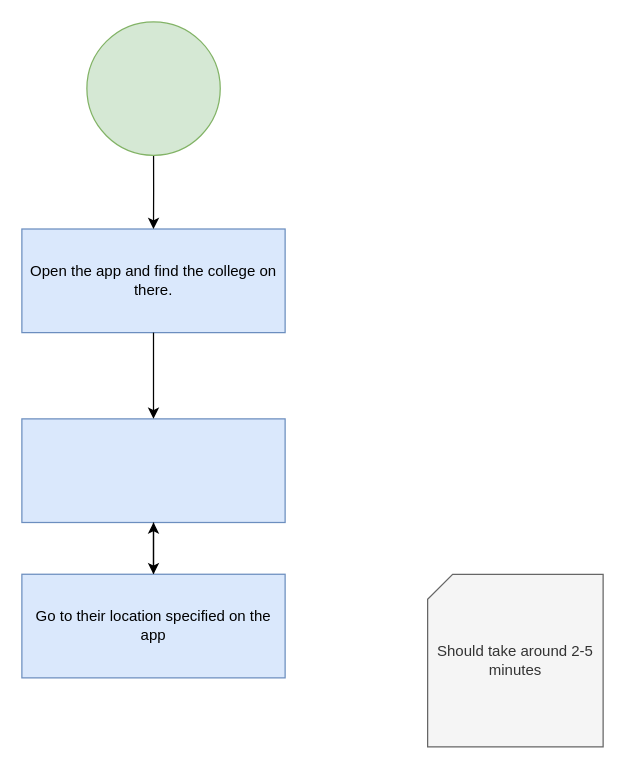
Image size: 625x769. Some labels were removed from this diagram. The shapes that lost their labels are listed below. From the top down, each one's box as (x1, y1, x2, y2) in pixels, then its label:
(86, 21, 220, 155): I need to find a collegue
(21, 418, 285, 522): Send a "I am looking for you" message
